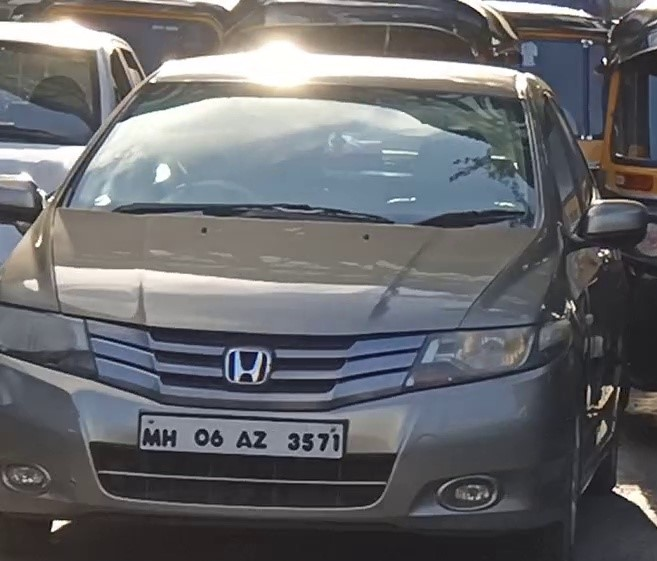MH06AZ3571: (136, 411, 345, 459)
